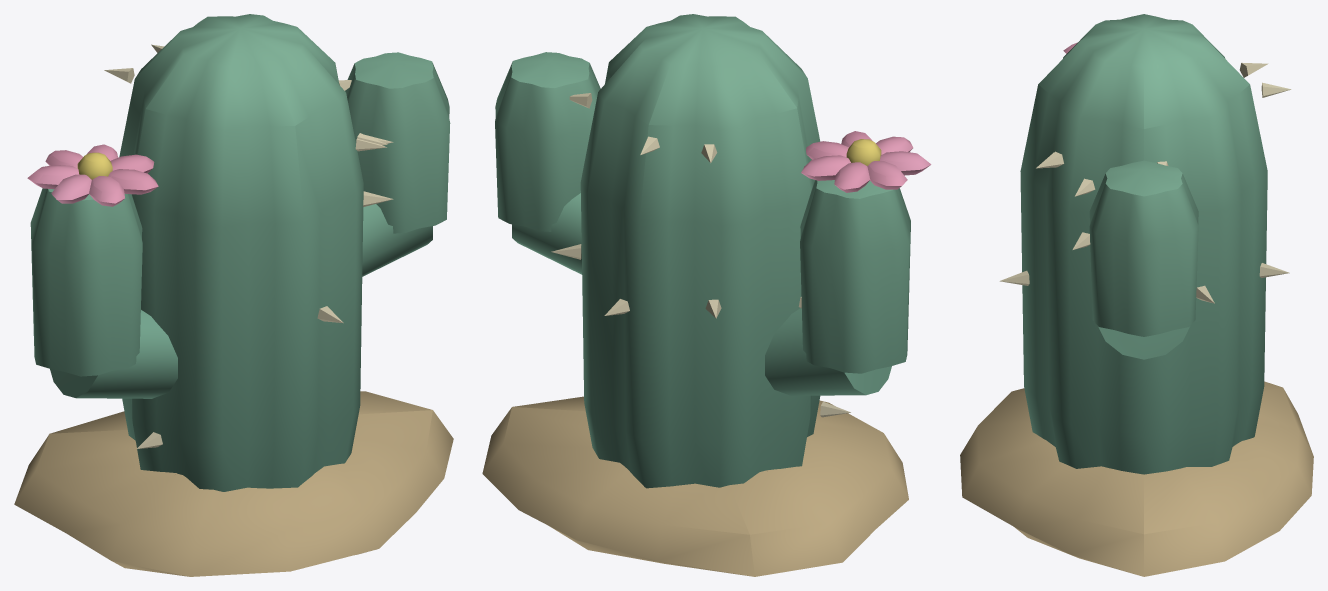
Rendered from cen_tarhut_cacto_0.glb.
The picture shows the model from 3 angles, left to right: view 1: azimuth 30°, elevation 25°; view 2: azimuth 150°, elevation 25°; view 3: azimuth 270°, elevation 25°; orthographic projection. The views are drawn at different scales.
Visible parts, largest first — view 1: cacto; view 2: cacto; view 3: cacto.
Part boxes in pixels (x1=…): cacto: x1=14, y1=14, x2=453, y2=576; cacto: x1=482, y1=14, x2=931, y2=576; cacto: x1=960, y1=14, x2=1313, y2=576.
Bounding box in the file's own units: 1.42 × 1.54 × 1.07.
